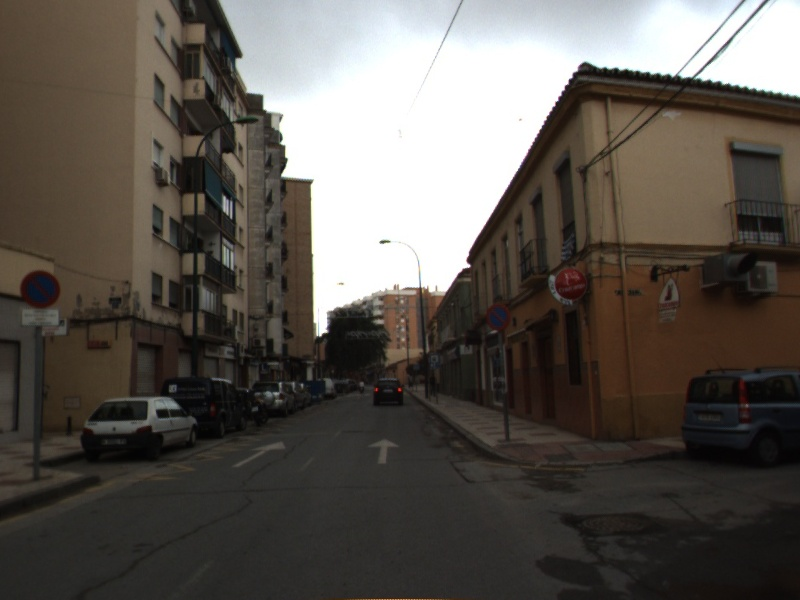STRAIGHT: (229, 439, 288, 470), (365, 436, 402, 466)
